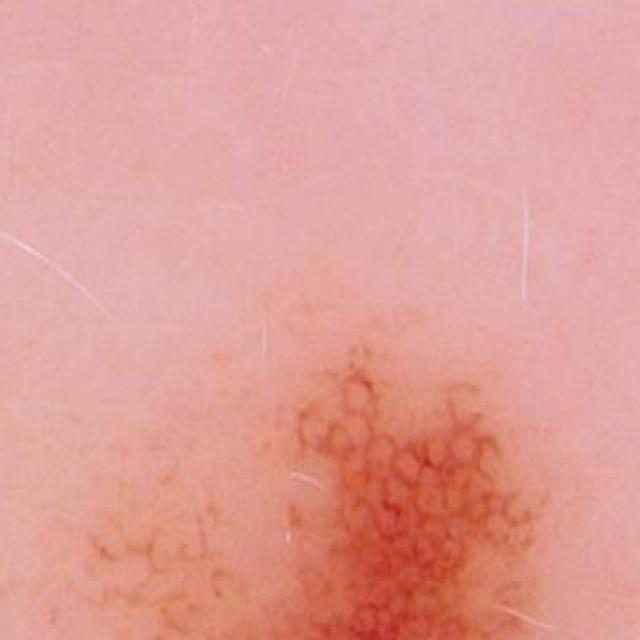NV: (98, 322, 595, 640)
